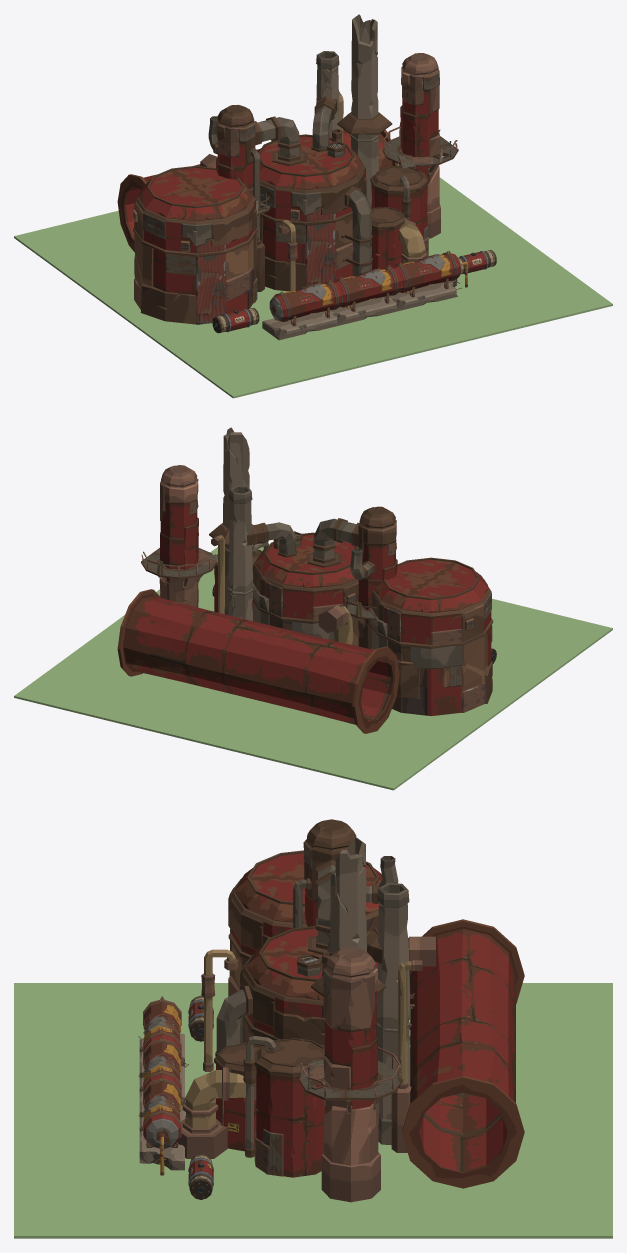
Rendered from refinery.glb.
The picture shows the model from 3 angles, top to bottom: view 1: azimuth 30°, elevation 25°; view 2: azimuth 150°, elevation 25°; view 3: azimuth 270°, elevation 25°; orthographic projection. The views are drawn at different scales.
Visible parts, largest first — view 1: Ground, Refinery_Main, Silo_Large_L, Silo_Tall_R, GasTank_0, GasTank_2, GasTank_1, Pipeline_Main, Pipe_3, FuelTank_0, Pipe_2, FuelTank_1; view 2: Ground, Pipeline_Main, Refinery_Main, Silo_Large_L, Silo_Tall_R, Pipe_0, Pipe_1; view 3: Ground, Refinery_Main, Pipeline_Main, Silo_Tall_R, Silo_Large_L, Pipe_3, GasTank_2, Pipe_1, GasTank_0, GasTank_1, Pipe_2, FuelTank_1 (+2 smaller).
Boxes of the visible parts, bbox=[...] form: Ground: bbox=[14, 163, 612, 398]; Refinery_Main: bbox=[208, 14, 428, 291]; Silo_Large_L: bbox=[132, 165, 257, 324]; Silo_Tall_R: bbox=[382, 53, 458, 238]; GasTank_0: bbox=[262, 279, 349, 340]; GasTank_2: bbox=[389, 251, 468, 311]; GasTank_1: bbox=[333, 265, 408, 325]; Pipeline_Main: bbox=[117, 129, 398, 252]; Pipe_3: bbox=[398, 218, 427, 263]; FuelTank_0: bbox=[212, 308, 259, 333]; Pipe_2: bbox=[279, 219, 297, 290]; FuelTank_1: bbox=[458, 250, 496, 274]; Ground: bbox=[14, 544, 612, 790]; Pipeline_Main: bbox=[117, 589, 399, 733]; Refinery_Main: bbox=[209, 427, 397, 648]; Silo_Large_L: bbox=[370, 557, 493, 716]; Silo_Tall_R: bbox=[141, 465, 217, 607]; Pipe_0: bbox=[318, 604, 353, 644]; Pipe_1: bbox=[211, 535, 224, 614]; Ground: bbox=[14, 983, 612, 1238]; Refinery_Main: bbox=[214, 819, 411, 1177]; Pipeline_Main: bbox=[402, 919, 524, 1188]; Silo_Tall_R: bbox=[299, 947, 402, 1202]; Silo_Large_L: bbox=[228, 850, 382, 996]; Pipe_3: bbox=[178, 1067, 256, 1158]; GasTank_2: bbox=[138, 1075, 184, 1175]; Pipe_1: bbox=[391, 960, 422, 1152]; GasTank_0: bbox=[138, 996, 188, 1081]; GasTank_1: bbox=[138, 1035, 185, 1120]; Pipe_2: bbox=[201, 949, 238, 1071]; FuelTank_1: bbox=[188, 1154, 213, 1199].
Size of the model in its own units: 32 by 18.43 by 32.
Materials: 2 (1 with a texture image).
